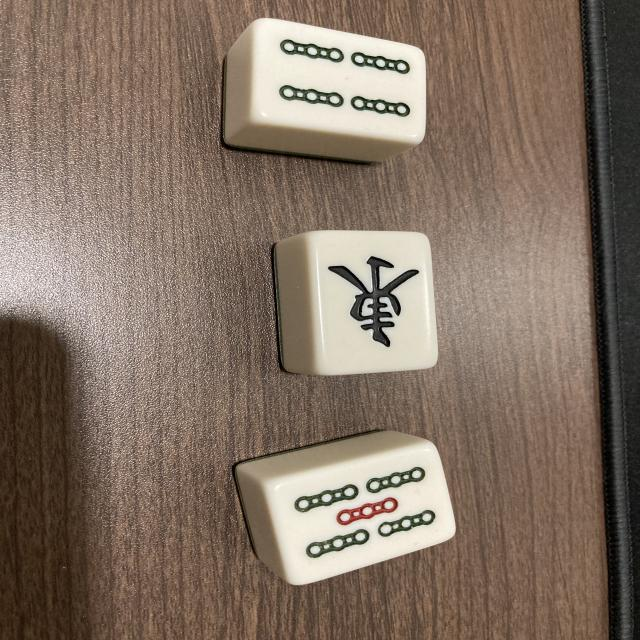4B: (254, 26, 425, 140)
5B: (270, 444, 452, 585)
EW: (307, 230, 435, 372)
